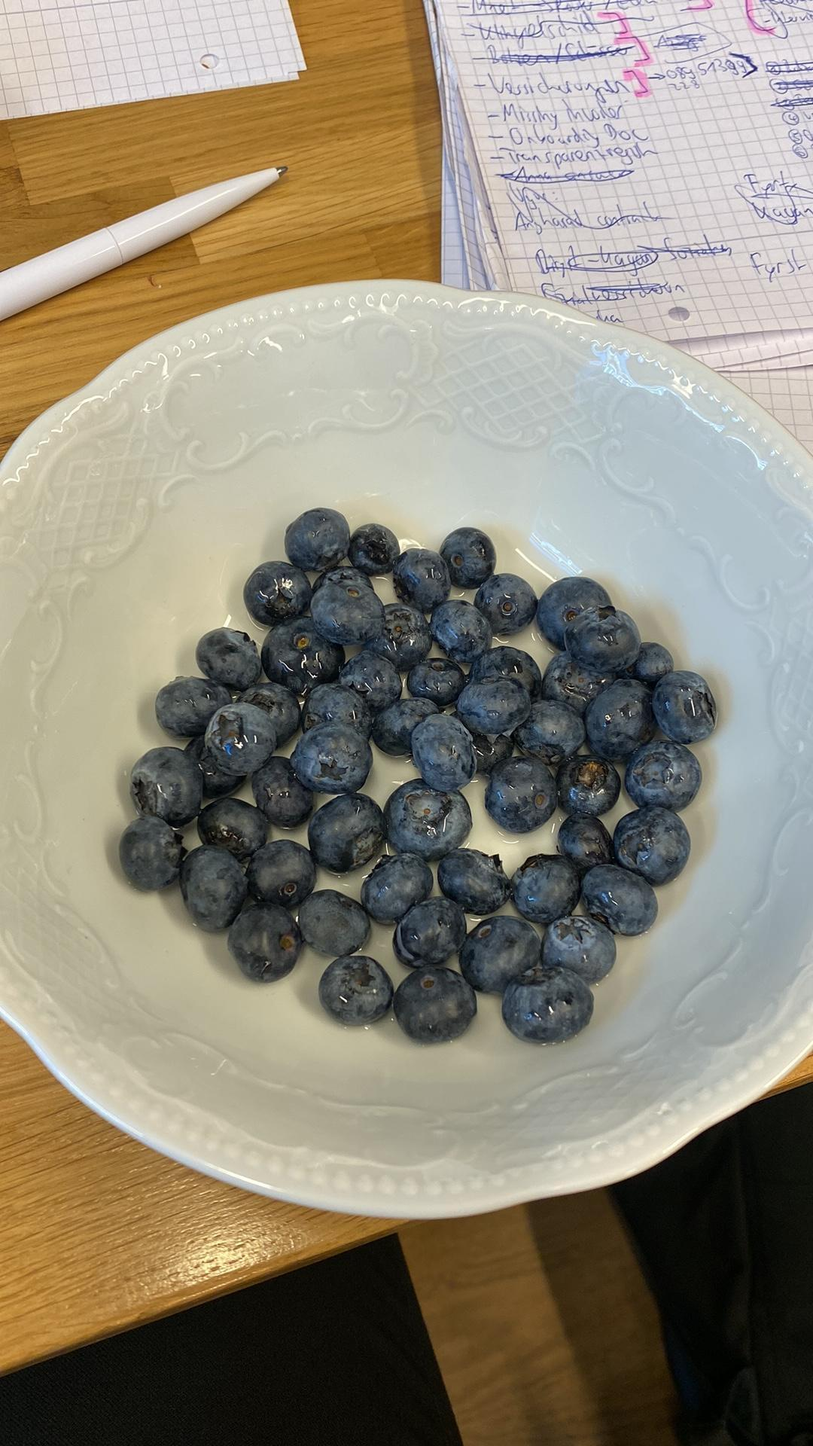blueberry: (380, 772, 474, 857), (503, 965, 598, 1048), (394, 965, 481, 1048), (227, 904, 311, 988), (485, 754, 563, 836), (130, 745, 209, 824), (311, 789, 384, 874), (459, 916, 544, 987), (289, 881, 368, 956), (411, 714, 479, 799), (542, 910, 615, 988), (318, 957, 393, 1032), (615, 807, 689, 883), (288, 720, 365, 793), (507, 849, 584, 921), (265, 617, 339, 690), (313, 578, 388, 650), (437, 842, 508, 918), (584, 678, 652, 757), (583, 866, 657, 937), (513, 694, 589, 763), (567, 606, 639, 676), (184, 847, 247, 927), (291, 674, 375, 734), (541, 573, 609, 647), (389, 898, 463, 966), (119, 819, 184, 896), (632, 741, 699, 814), (561, 811, 624, 886), (209, 704, 276, 774), (192, 788, 263, 854), (249, 840, 321, 905), (655, 668, 719, 741), (285, 505, 353, 573), (151, 675, 229, 733), (363, 853, 439, 911), (367, 690, 438, 752), (554, 754, 622, 818), (251, 760, 311, 830), (241, 558, 305, 623), (434, 599, 496, 664), (236, 679, 304, 736), (476, 573, 535, 638), (199, 621, 259, 684), (339, 644, 399, 706), (403, 649, 468, 706), (462, 675, 531, 728), (393, 547, 449, 610), (371, 604, 434, 660), (473, 644, 539, 695), (545, 653, 608, 705), (440, 528, 491, 583), (347, 522, 400, 572), (628, 639, 670, 680)
